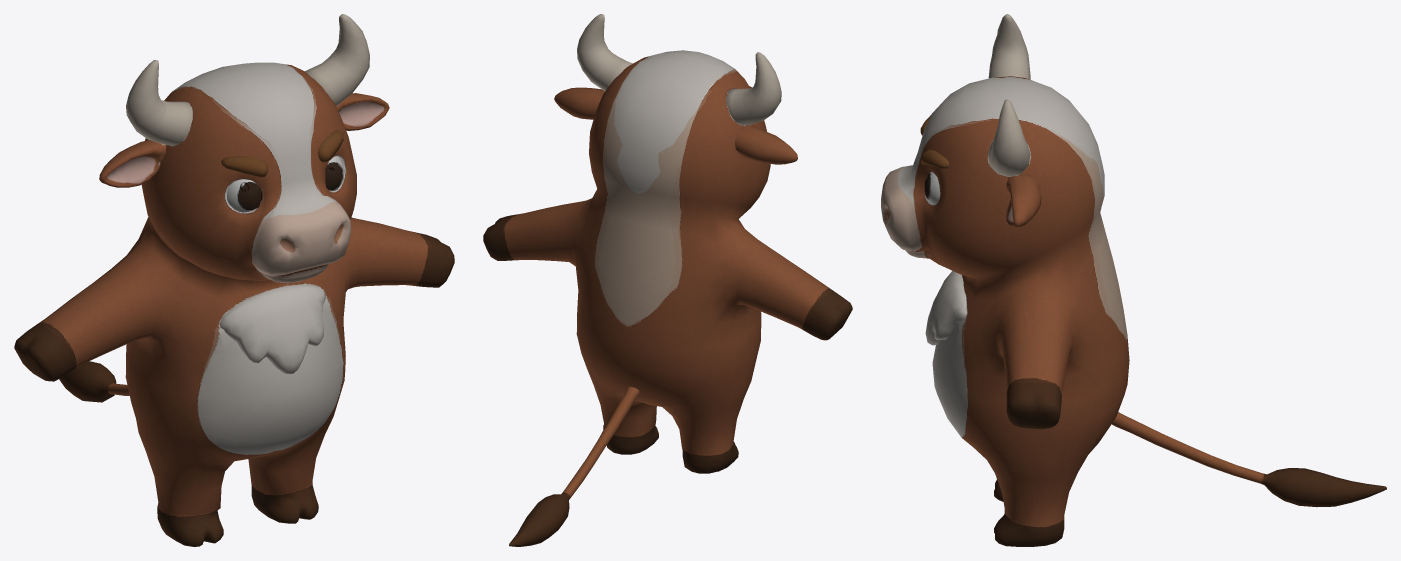
The model's file is tripo_convert_502fa9a8-a363-4e9a-9ead-cc1f300884b0.fbx.
3 renders of one model, left to right at view 1: azimuth 30°, elevation 25°; view 2: azimuth 150°, elevation 25°; view 3: azimuth 270°, elevation 25°, orthographic. The views are drawn at different scales.
Parts seen in each view (by area): view 1: tripo_node_502fa9a8; view 2: tripo_node_502fa9a8; view 3: tripo_node_502fa9a8.
Part boxes in pixels (<box>): tripo_node_502fa9a8: <box>14,14,454,546</box>; tripo_node_502fa9a8: <box>483,14,852,546</box>; tripo_node_502fa9a8: <box>881,14,1386,546</box>.
Bounding box in the file's own units: 90.04 × 99.8 × 99.8.
Materials: 1 (1 with a texture image).
